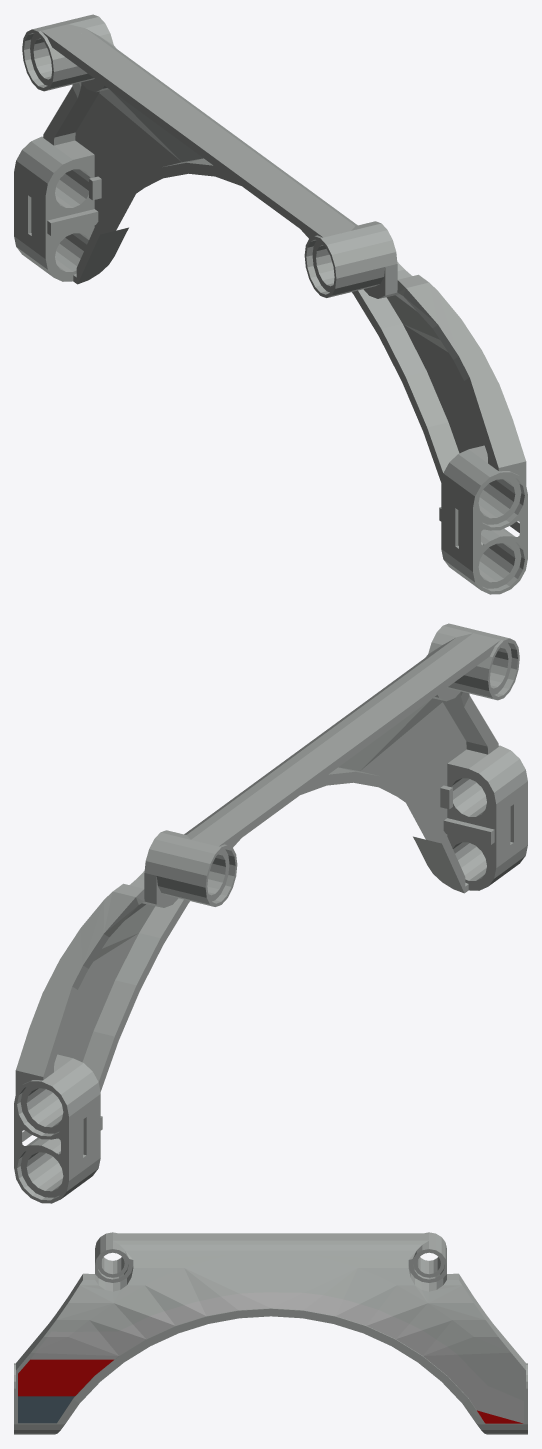
The picture shows the model from 3 angles, top to bottom: view 1: azimuth 30°, elevation 25°; view 2: azimuth 150°, elevation 25°; view 3: azimuth 270°, elevation 25°; orthographic projection. The views are drawn at different scales.
Visible parts, largest first — view 1: world; view 2: world; view 3: world.
Part boxes in pixels (box(x1,y1,x2,y2)): world: box(14, 14, 527, 594); world: box(14, 623, 527, 1203); world: box(14, 1232, 527, 1434).
Size of the model in its own units: 0.0158 by 0.0392 by 0.104.
